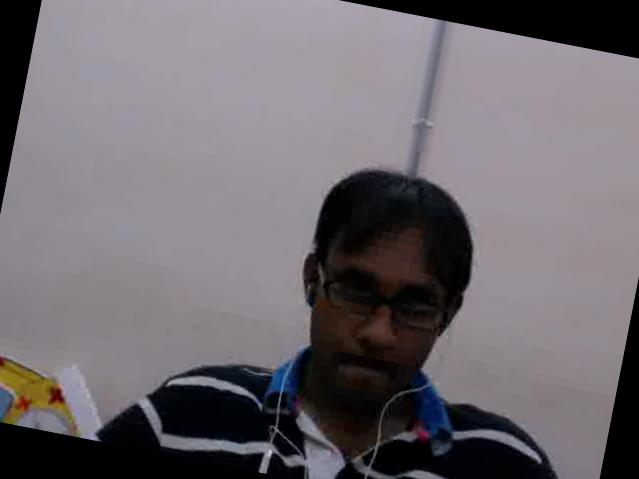bosan: (295, 223, 453, 411)
